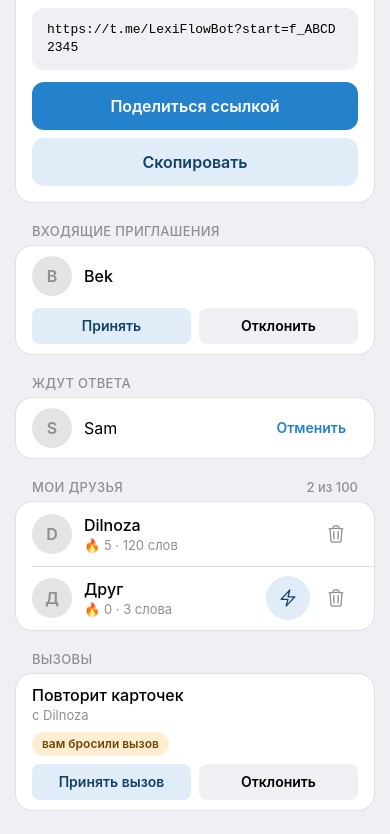
Test: FriendsView › challenges › answers a challenge from a friend
(page scrolled)
Click the button with test id "challenge-accept".
click(112, 782)  # box [32,764,191,800]
(page scrolled)
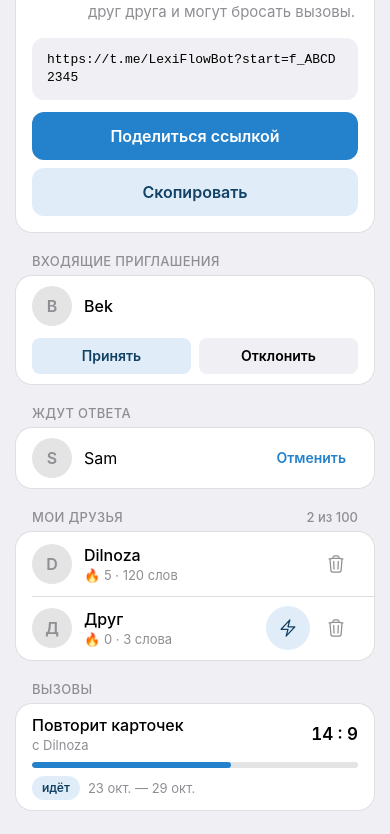
Result: the text with test id "challenge-status" reads "идёт" at [42,780,70,795]
